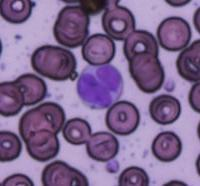M: (76, 62, 127, 109)
